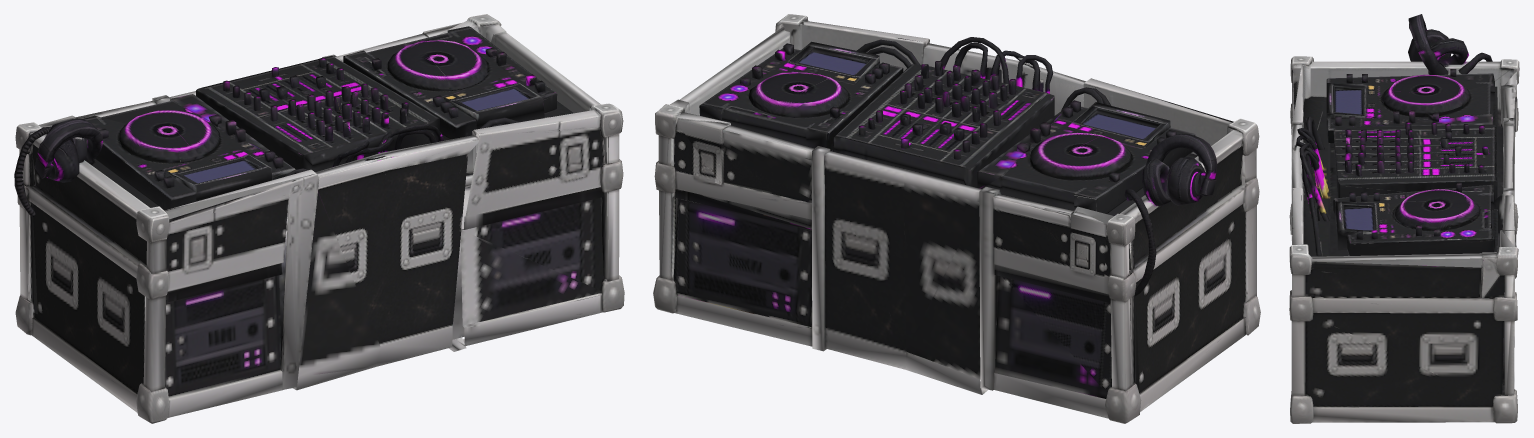
3 renders of one model, left to right at view 1: azimuth 30°, elevation 25°; view 2: azimuth 150°, elevation 25°; view 3: azimuth 270°, elevation 25°, orthographic. The views are drawn at different scales.
Size of the model in its own units: 0.9541 by 0.459 by 0.4419.
Materials: 1 (1 with a texture image).
